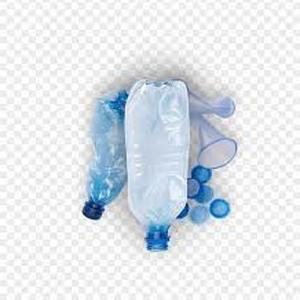Plastic: (128, 81, 192, 252), (78, 87, 128, 221)
